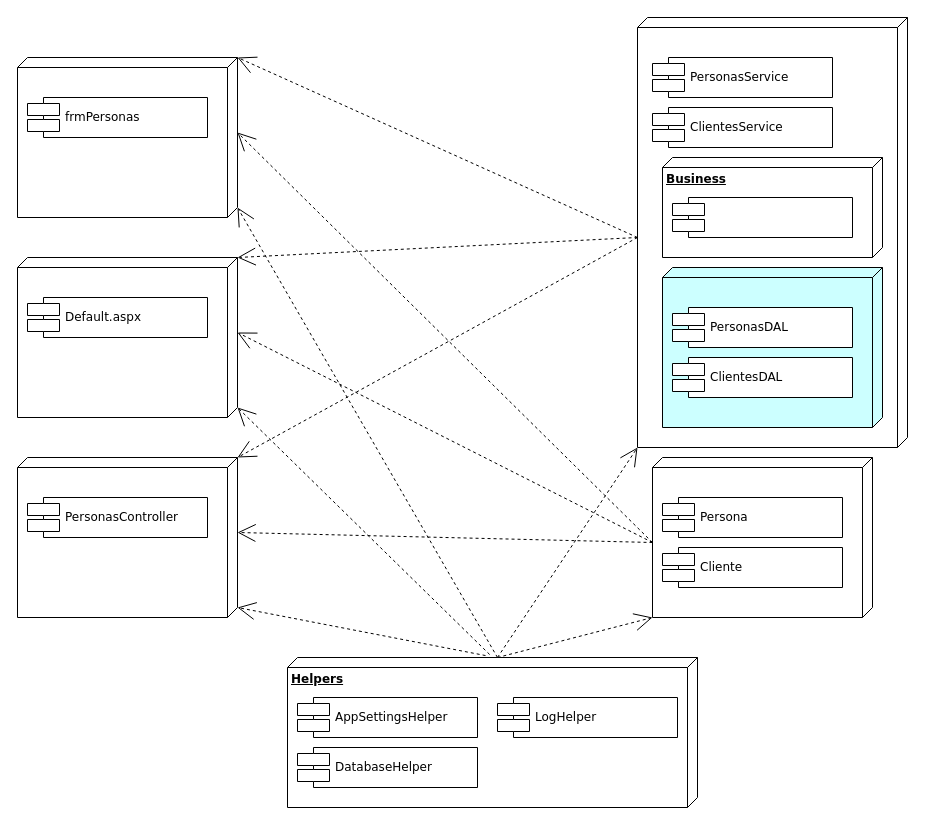
This 925x825 diagram has some shape labels left out. The box of each missing label's shape, as (x1, y1, x2, y2) in pixels:
CustomLog: (672, 196, 852, 238)
DataAccessLayer (internal): (662, 266, 882, 428)
Gestion.API: (16, 456, 238, 618)
Gestion.Entities: (652, 456, 872, 618)
Gestion.Services: (636, 16, 908, 448)
Gestion.WebForms: (16, 256, 238, 418)
Gestion.WindowsForm: (16, 56, 238, 218)
